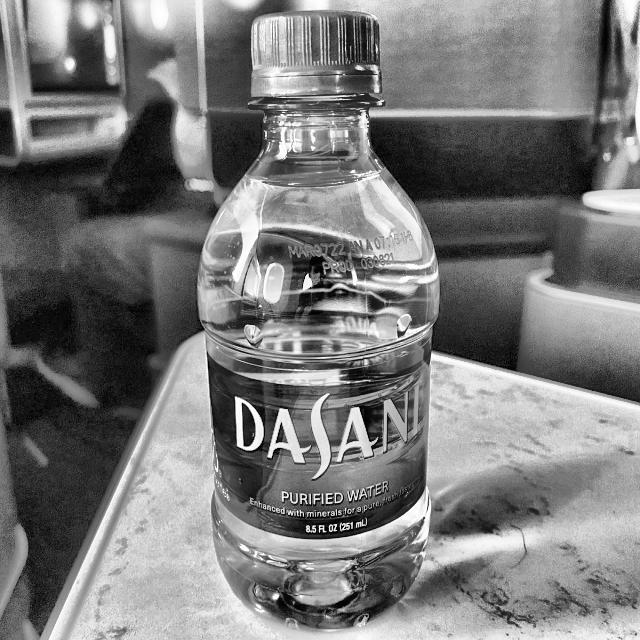waterbottle: (183, 0, 446, 640)
